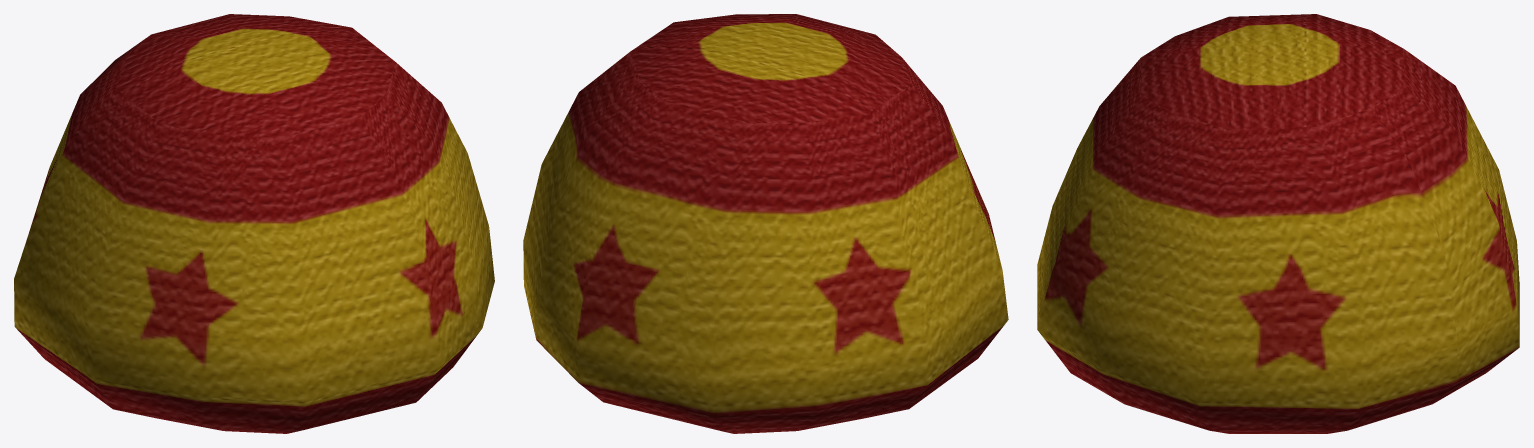
Rendered from HackeySack_YellowRed_Scaled.fbx.
The picture shows the model from 3 angles, left to right: view 1: azimuth 30°, elevation 25°; view 2: azimuth 150°, elevation 25°; view 3: azimuth 270°, elevation 25°; orthographic projection.
Parts seen in each view (by area): view 1: Hackey3; view 2: Hackey3; view 3: Hackey3.
Boxes of the visible parts, left/top/right/bottom form: Hackey3: left=14, top=14, right=494, bottom=433; Hackey3: left=523, top=14, right=1008, bottom=433; Hackey3: left=1037, top=14, right=1519, bottom=433.
Bounding box in the file's own units: 8.99 × 6.98 × 9.25.
